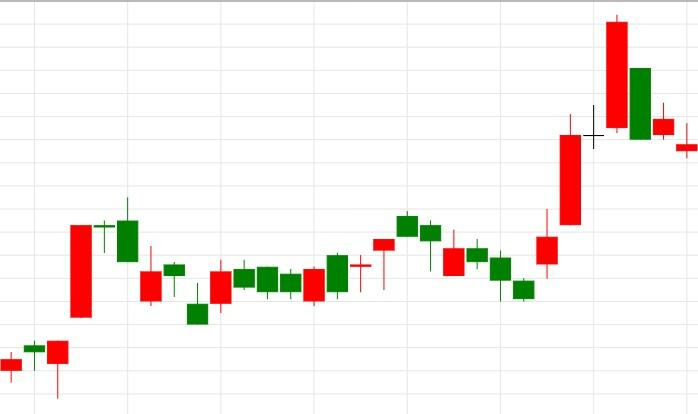evening_star_fall: (0, 197, 139, 399)
